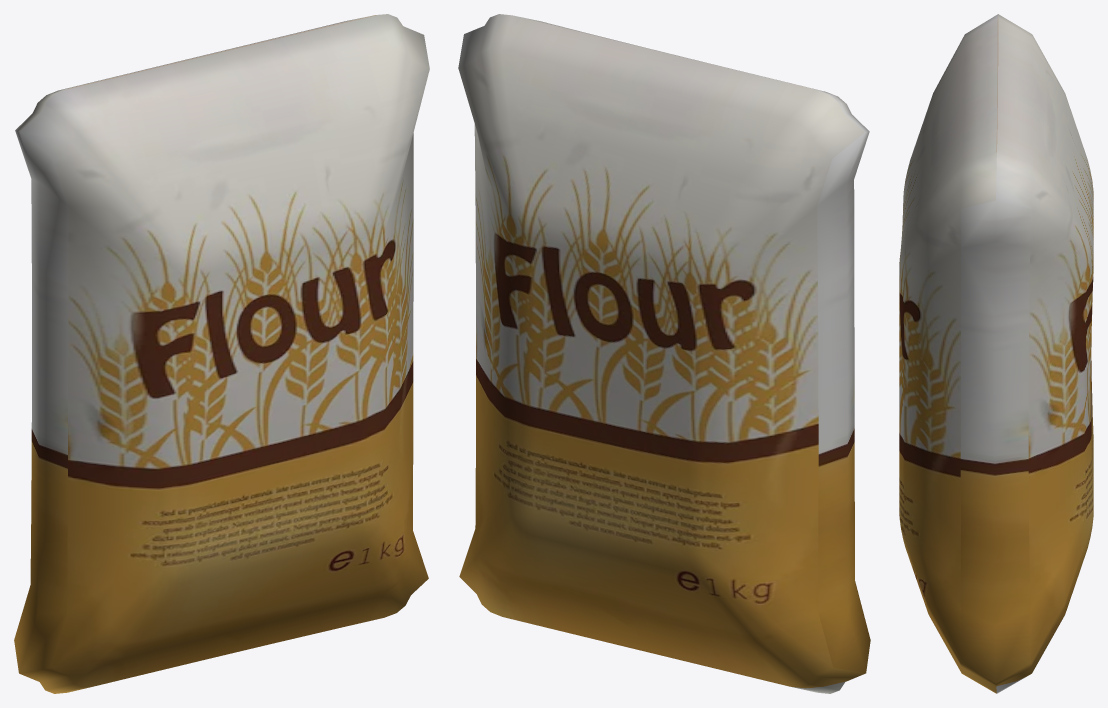
The model's file is flour.glb.
The picture shows the model from 3 angles, left to right: view 1: azimuth 30°, elevation 25°; view 2: azimuth 150°, elevation 25°; view 3: azimuth 270°, elevation 25°; orthographic projection. The views are drawn at different scales.
Visible parts, largest first — view 1: Object_5; view 2: Object_5; view 3: Object_5.
Boxes of the visible parts, left/top/right/bottom form: Object_5: left=14, top=14, right=429, bottom=693; Object_5: left=458, top=14, right=870, bottom=693; Object_5: left=899, top=14, right=1093, bottom=693.
Size of the model in its own units: 0.1756 by 0.2511 by 0.0821.
1 material, 1 textured.
